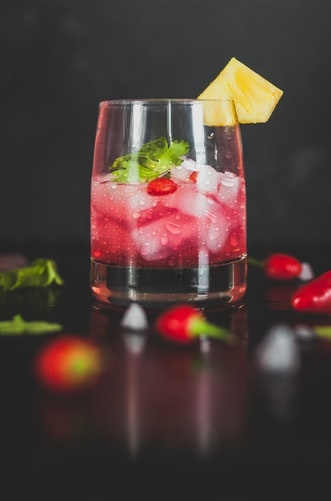whiskey: (89, 94, 247, 304)
